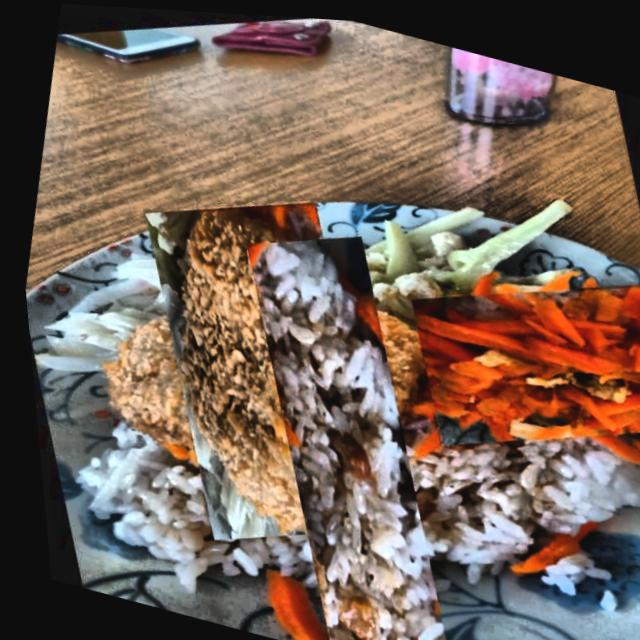Food: (96, 245, 603, 640), (56, 170, 459, 565), (370, 212, 640, 495)
